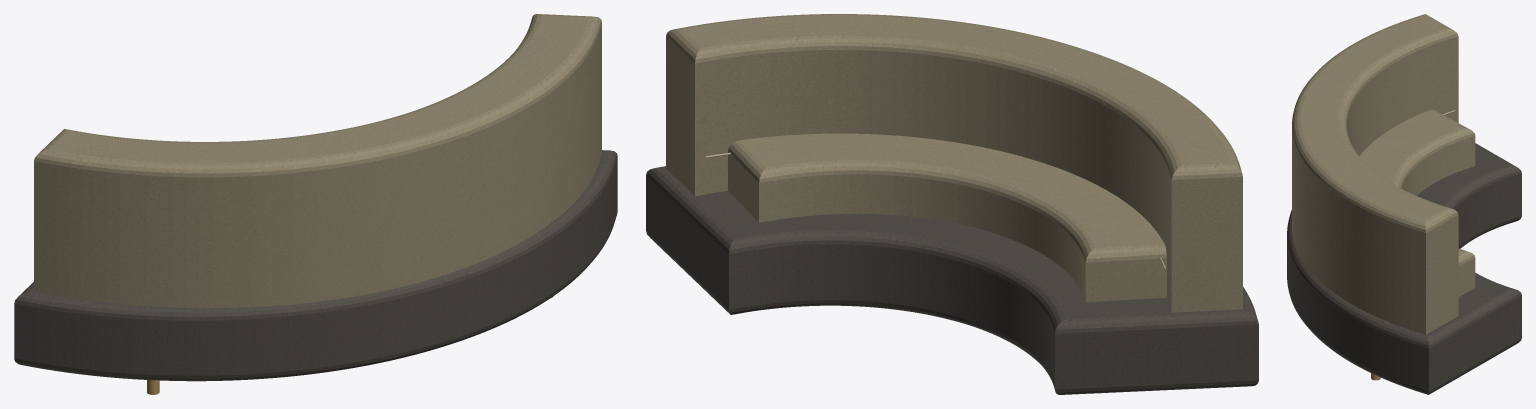
File: luxury-crescent-sofa.glb
3 renders of one model, left to right at view 1: azimuth 30°, elevation 25°; view 2: azimuth 150°, elevation 25°; view 3: azimuth 270°, elevation 25°, orthographic. The views are drawn at different scales.
Visible parts, largest first — view 1: linen_1, fabric_0; view 2: linen_1, fabric_0; view 3: linen_1, fabric_0.
Boxes of the visible parts, x1,y1,x2,y2 form: linen_1: (34,14,601,308); fabric_0: (14,150,617,381); linen_1: (666,14,1242,312); fabric_0: (646,166,1258,394); linen_1: (1292,14,1475,334); fabric_0: (1287,143,1521,394).
Bounding box in the file's own units: 2.76 × 1.04 × 1.19.
Materials: 4 (2 with a texture image).
